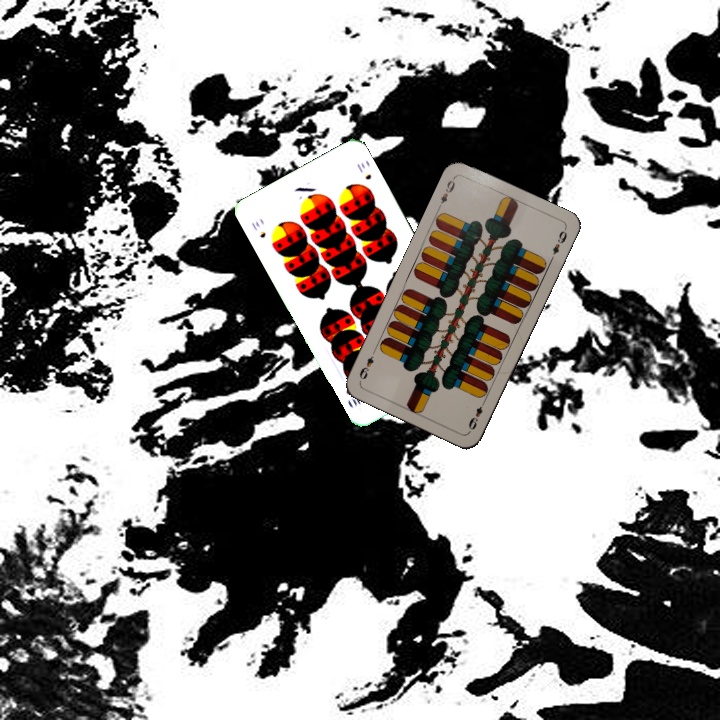E9: (434, 173, 458, 211), (464, 396, 488, 432)
S10: (247, 217, 268, 241)
